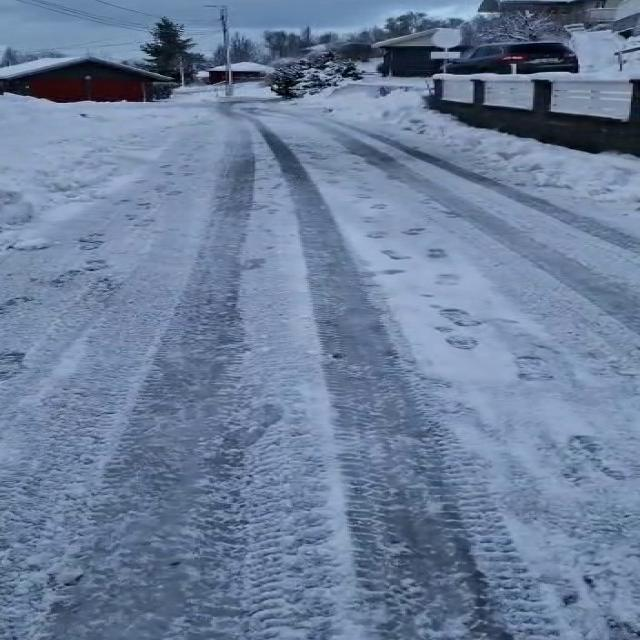path: (2, 102, 638, 640)
